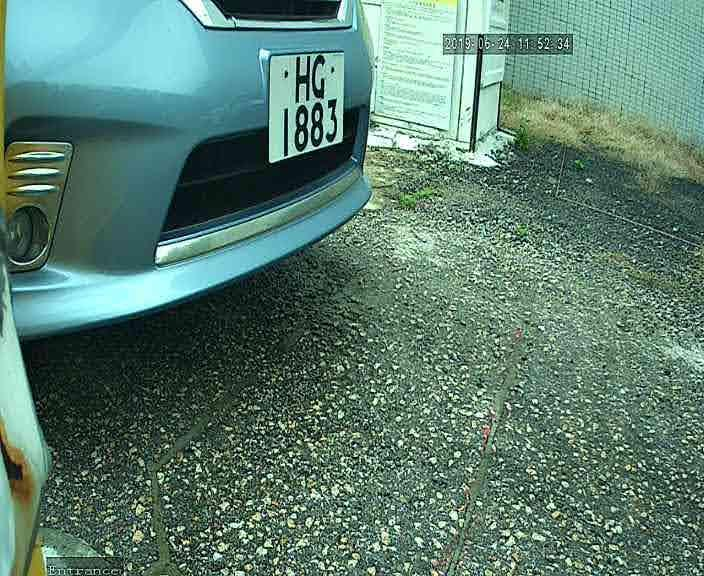privatecar: (2, 2, 383, 373)
